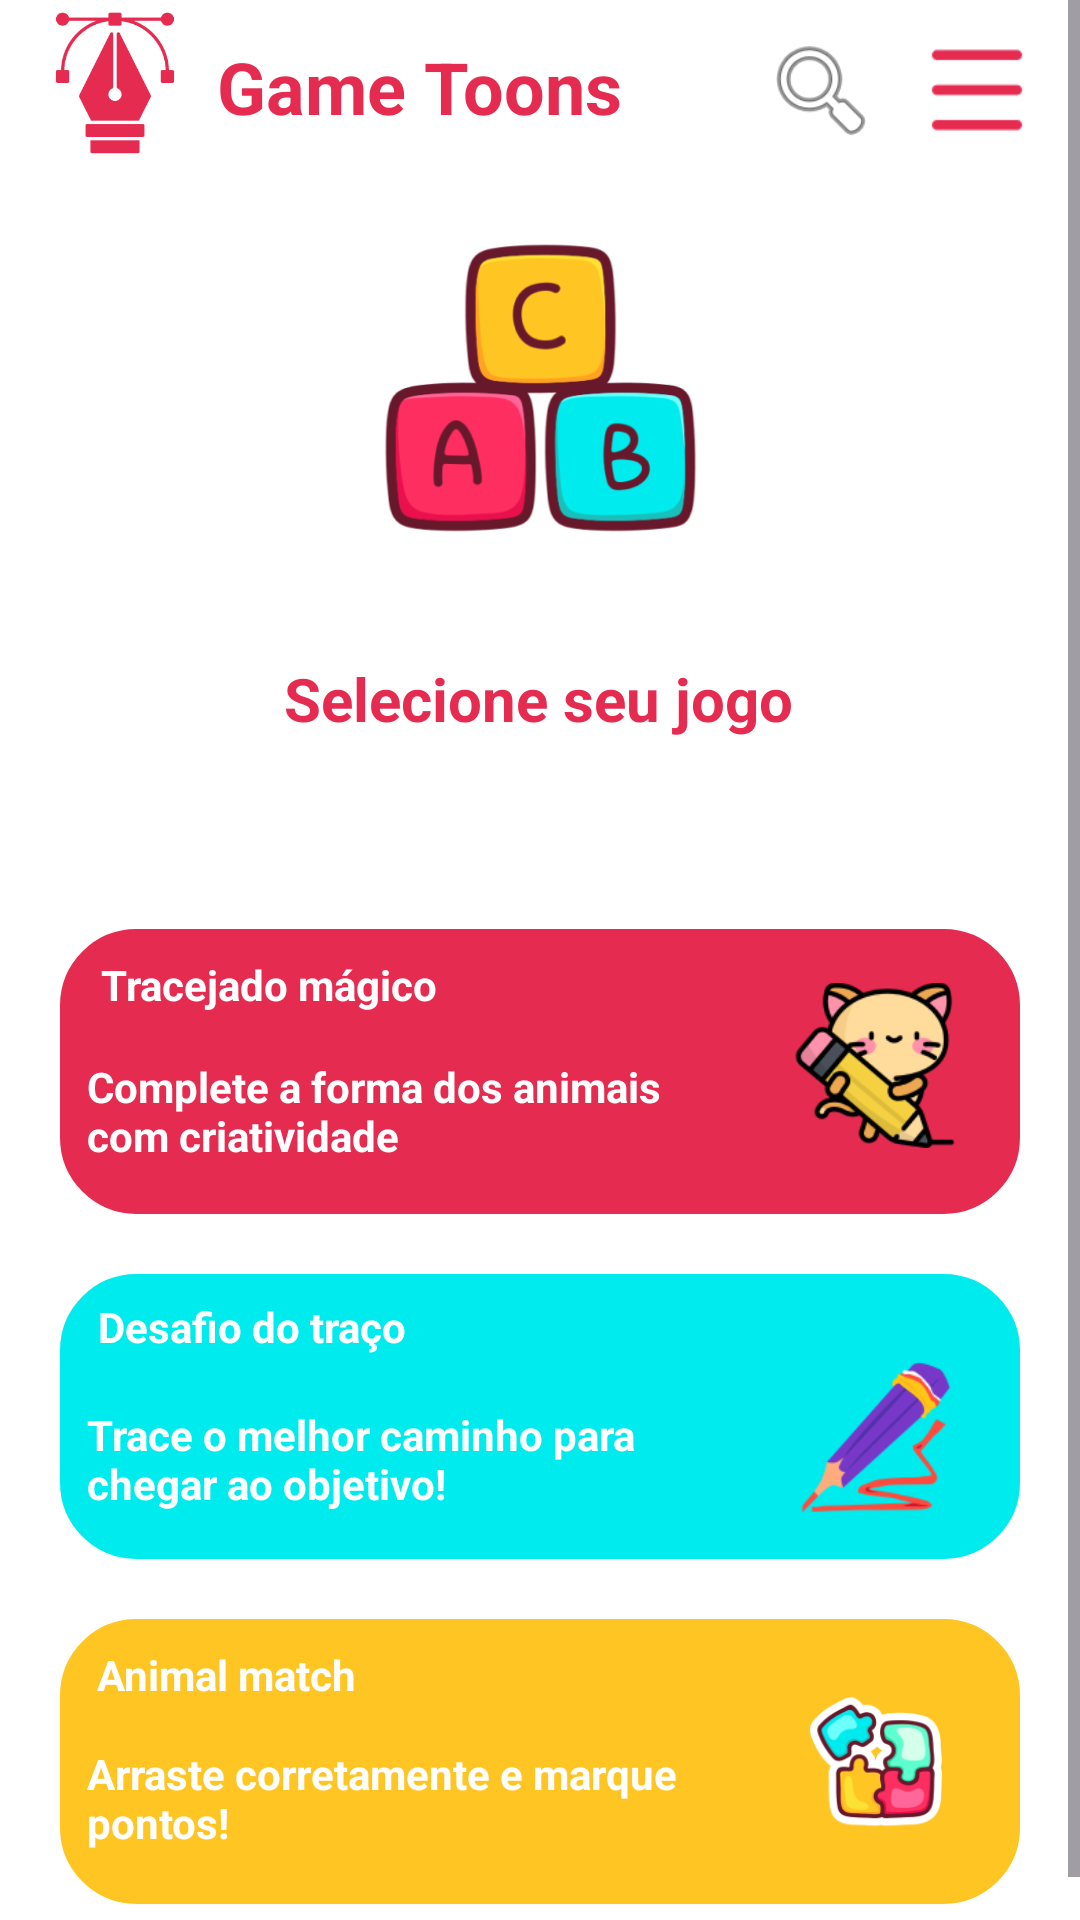

Named icons in this screenshot (1080px x 1920px) and their bounding boxes, bbox=(x1, y1, x2, y2):
search: bbox=(776, 46, 865, 135)
